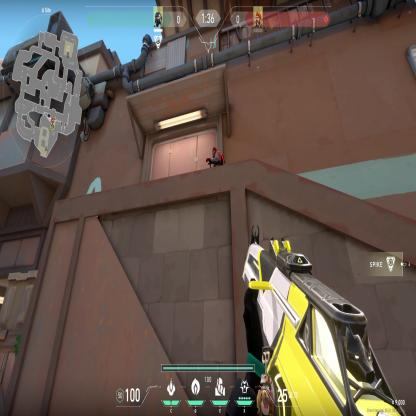enemy: (205, 146, 226, 167)
